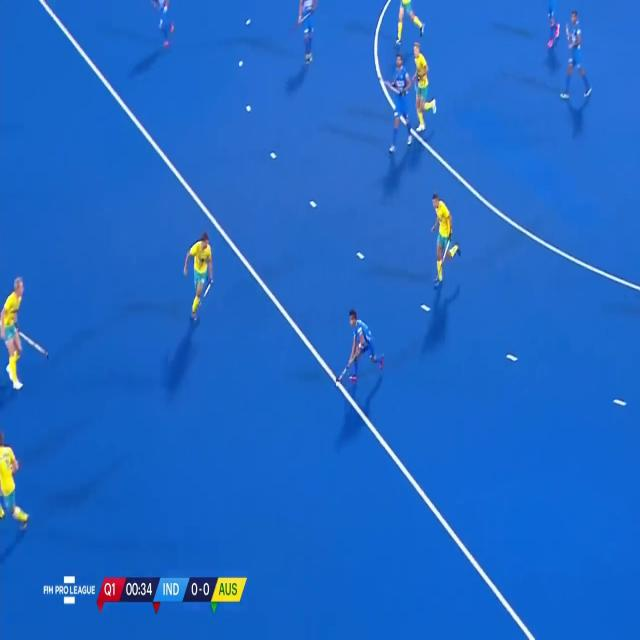ball: (333, 380, 341, 389)
